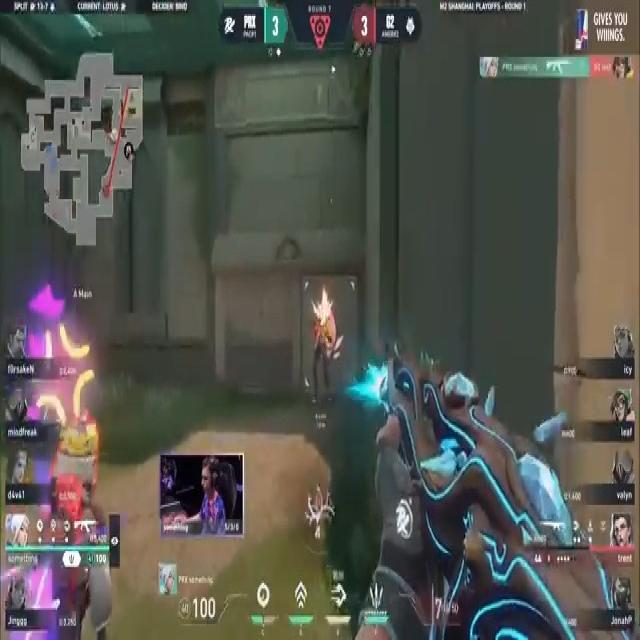enemy: (310, 309, 333, 407)
